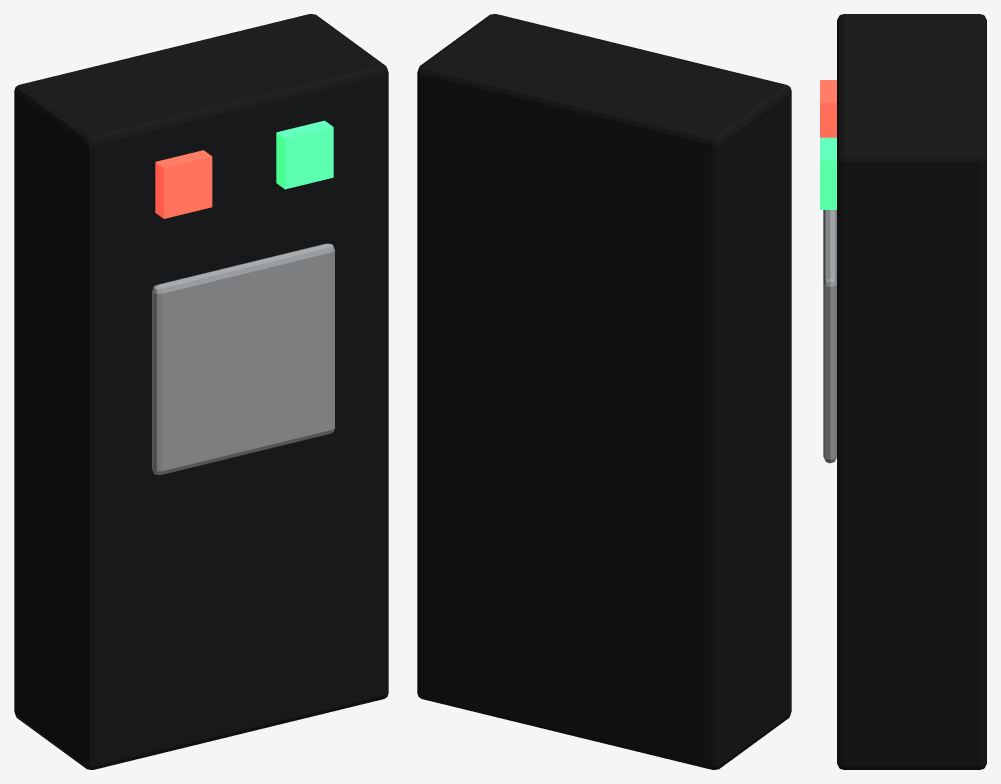
File: PROP_Reader_Access.glb
The picture shows the model from 3 angles, left to right: view 1: azimuth 30°, elevation 25°; view 2: azimuth 150°, elevation 25°; view 3: azimuth 270°, elevation 25°; orthographic projection. The views are drawn at different scales.
Parts seen in each view (by area): view 1: PROP_Reader_Access_Mesh, PROP_Reader_Access_LEDs; view 2: PROP_Reader_Access_Mesh; view 3: PROP_Reader_Access_Mesh, PROP_Reader_Access_LEDs.
Boxes of the visible parts, <box> form: PROP_Reader_Access_Mesh: <box>14,14,388,769</box>; PROP_Reader_Access_LEDs: <box>155,120,333,218</box>; PROP_Reader_Access_Mesh: <box>417,14,791,769</box>; PROP_Reader_Access_Mesh: <box>823,14,986,769</box>; PROP_Reader_Access_LEDs: <box>820,80,836,209</box>.
Bounding box in the file's own units: 0.05 × 0.1 × 0.0245.
